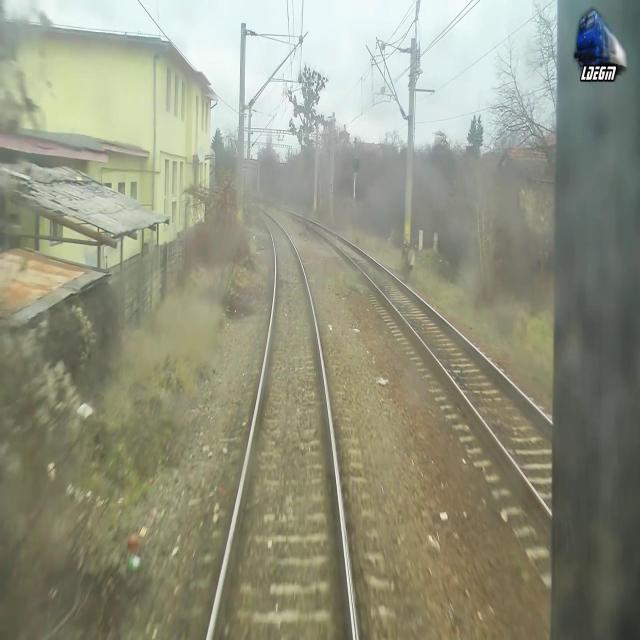rail-track: (287, 211, 552, 506), (211, 207, 353, 639)
